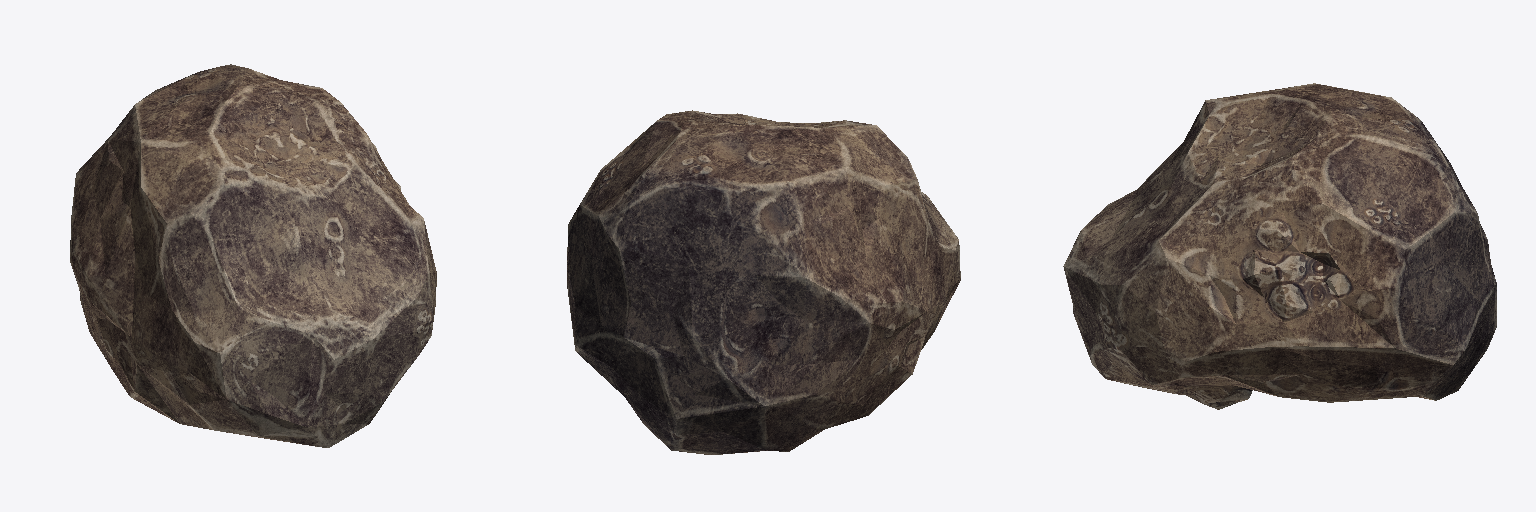
3 views of the same model, side by side, from view 1: azimuth 30°, elevation 25°; view 2: azimuth 150°, elevation 25°; view 3: azimuth 270°, elevation 25° (orthographic).
Visible parts, largest first — view 1: RockLP_Rock_MAT_0; view 2: RockLP_Rock_MAT_0; view 3: RockLP_Rock_MAT_0.
Boxes of the visible parts, x1=… form: RockLP_Rock_MAT_0: x1=70, y1=64, x2=436, y2=447; RockLP_Rock_MAT_0: x1=567, y1=110, x2=960, y2=454; RockLP_Rock_MAT_0: x1=1063, y1=83, x2=1496, y2=409.
Size of the model in its own units: 2.45 by 2.3 by 3.05.
Materials: 1 (1 with a texture image).